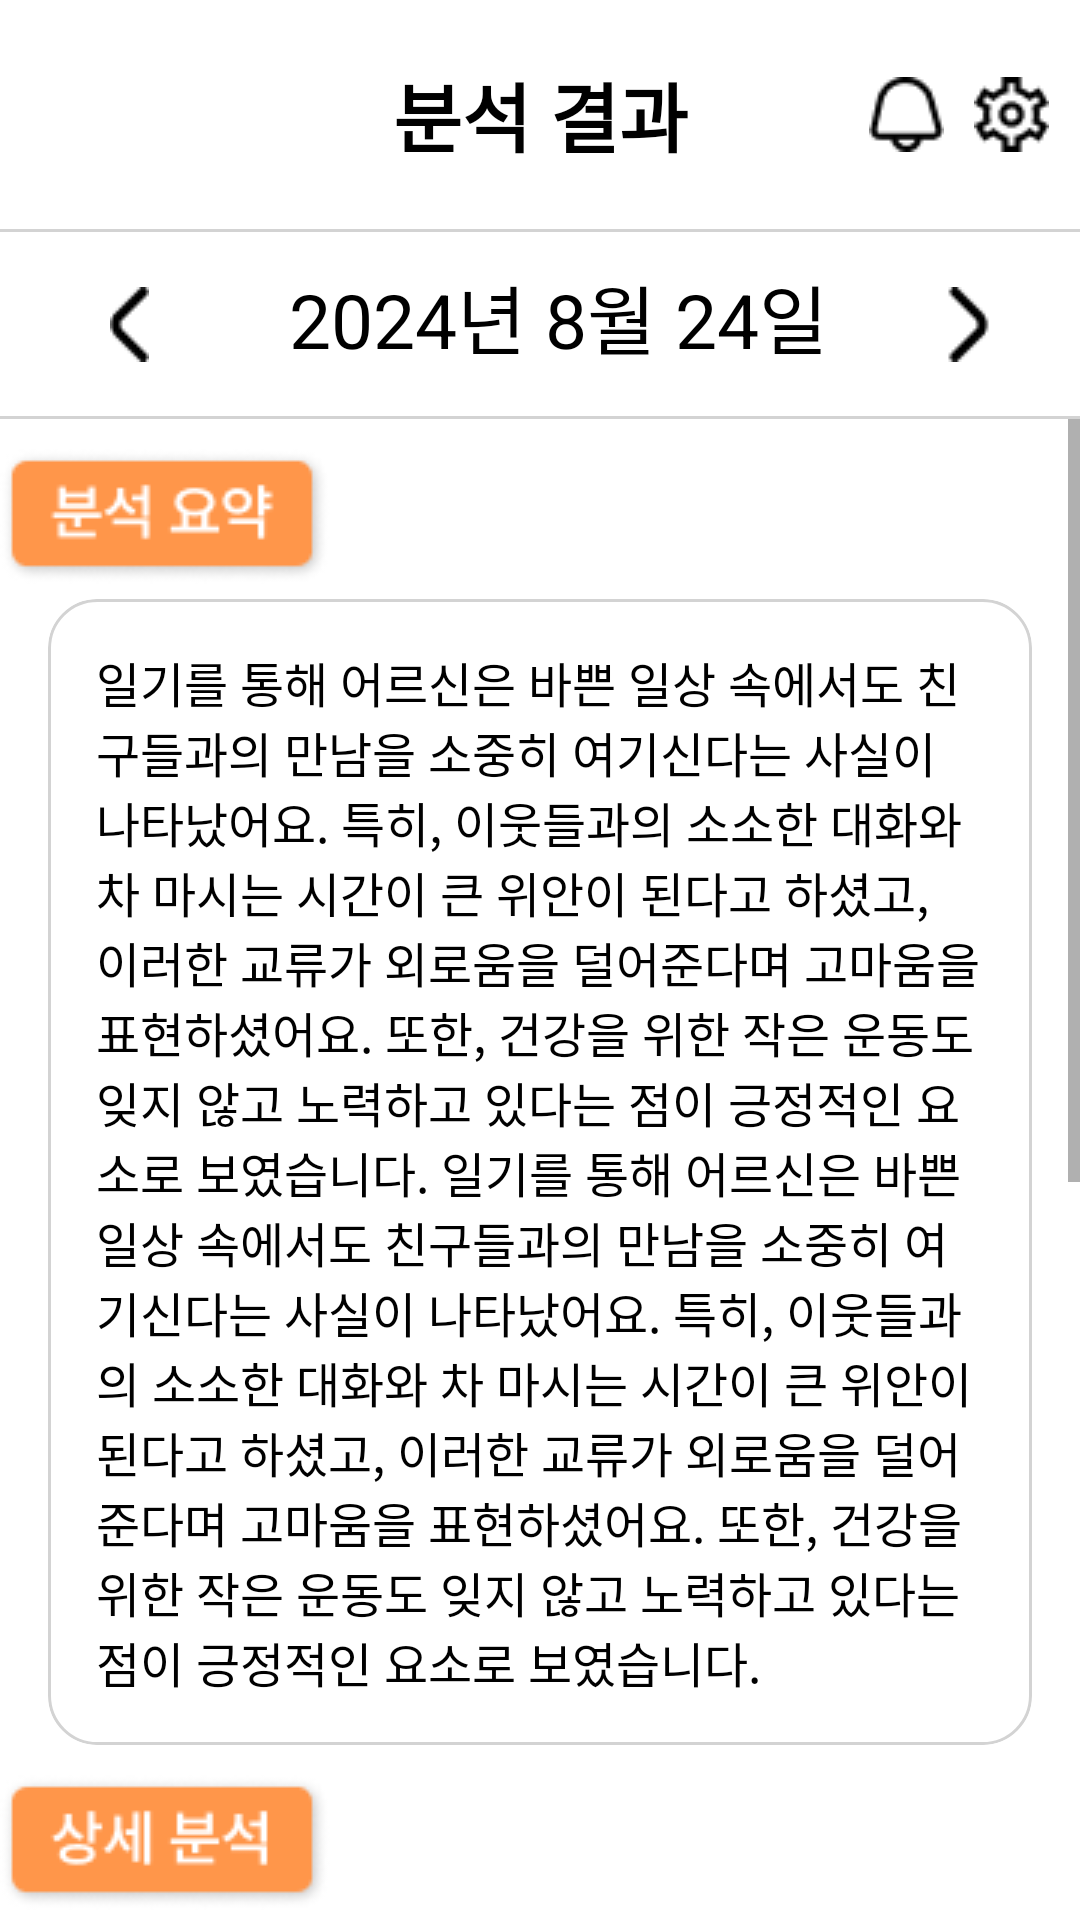

Named icons in this screenshot (1080*1920) and their centers, (x=x, y=y):
bell: (x=906, y=114)
left arrow: (x=129, y=324)
right arrow: (x=968, y=324)
setting: (x=1011, y=114)
